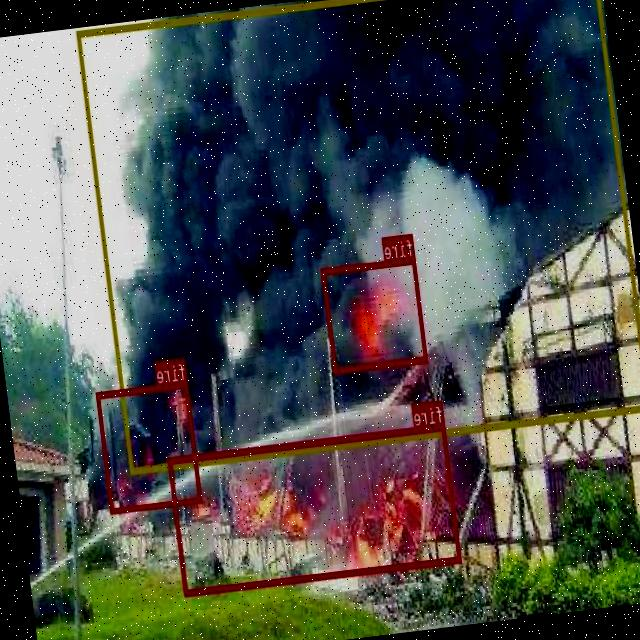fire: (168, 422, 462, 594), (96, 380, 202, 512), (321, 255, 428, 372)
smoke: (76, 0, 640, 473)
